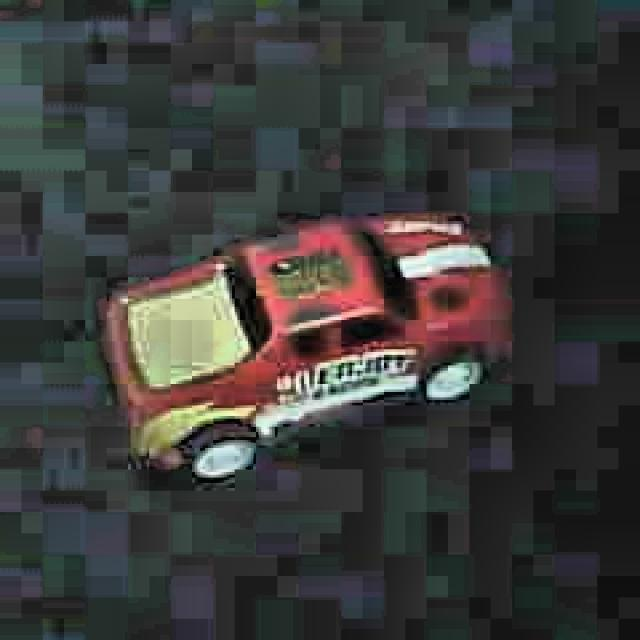car: (94, 202, 520, 492)
